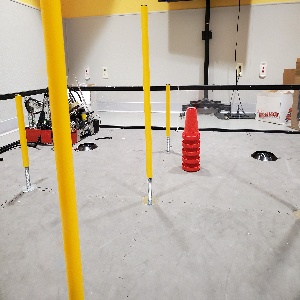Red_5: (181, 108, 199, 171)
